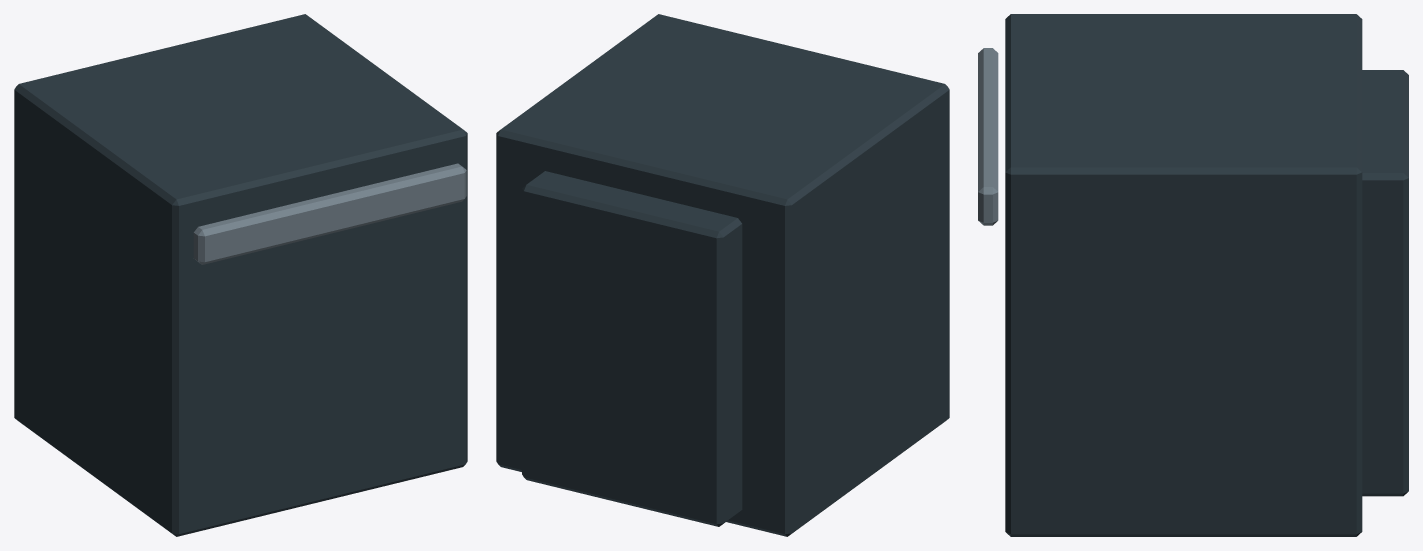
The model's file is b18_modern_cube_downlight.glb.
3 renders of one model, left to right at view 1: azimuth 30°, elevation 25°; view 2: azimuth 150°, elevation 25°; view 3: azimuth 270°, elevation 25°, orthographic. The views are drawn at different scales.
Parts seen in each view (by area): view 1: b18_modern_cube_downlight; view 2: b18_modern_cube_downlight; view 3: b18_modern_cube_downlight.
Boxes of the visible parts, bbox=[...] form: b18_modern_cube_downlight: bbox=[14, 14, 467, 536]; b18_modern_cube_downlight: bbox=[496, 14, 949, 536]; b18_modern_cube_downlight: bbox=[978, 14, 1408, 536].
Size of the model in its own units: 0.22 by 0.255 by 0.2535.
